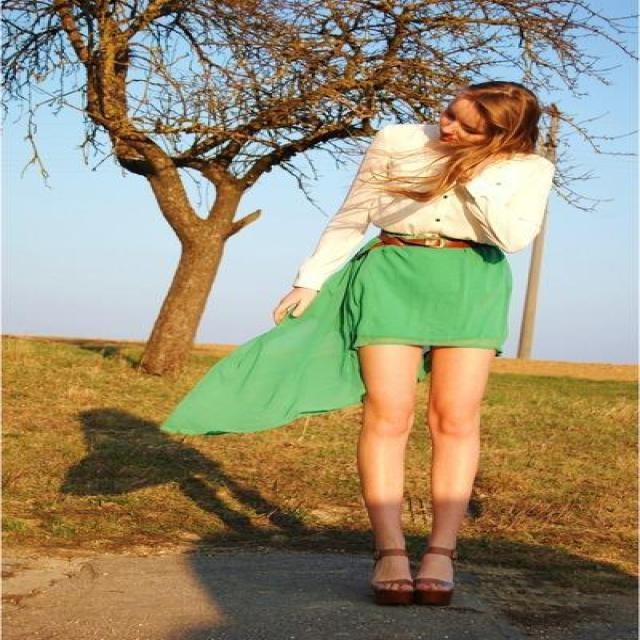shirt: (294, 115, 562, 289)
shoe: (368, 576, 451, 609)
skirt: (160, 236, 517, 435)
